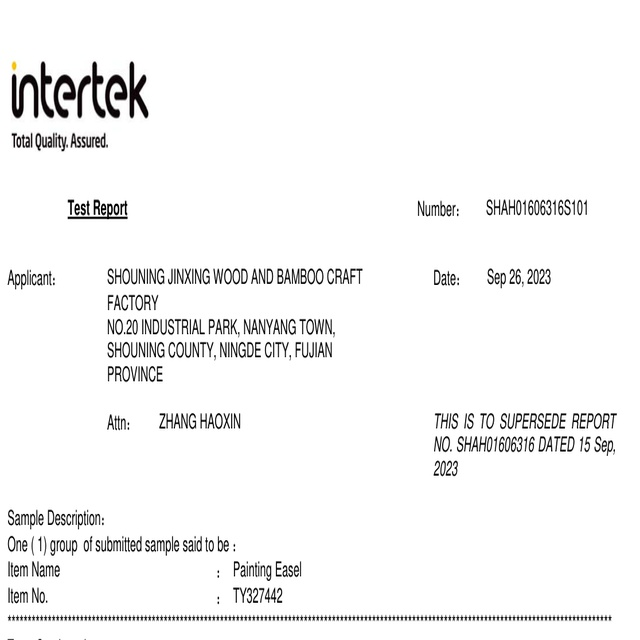intertek: (3, 58, 153, 123)
